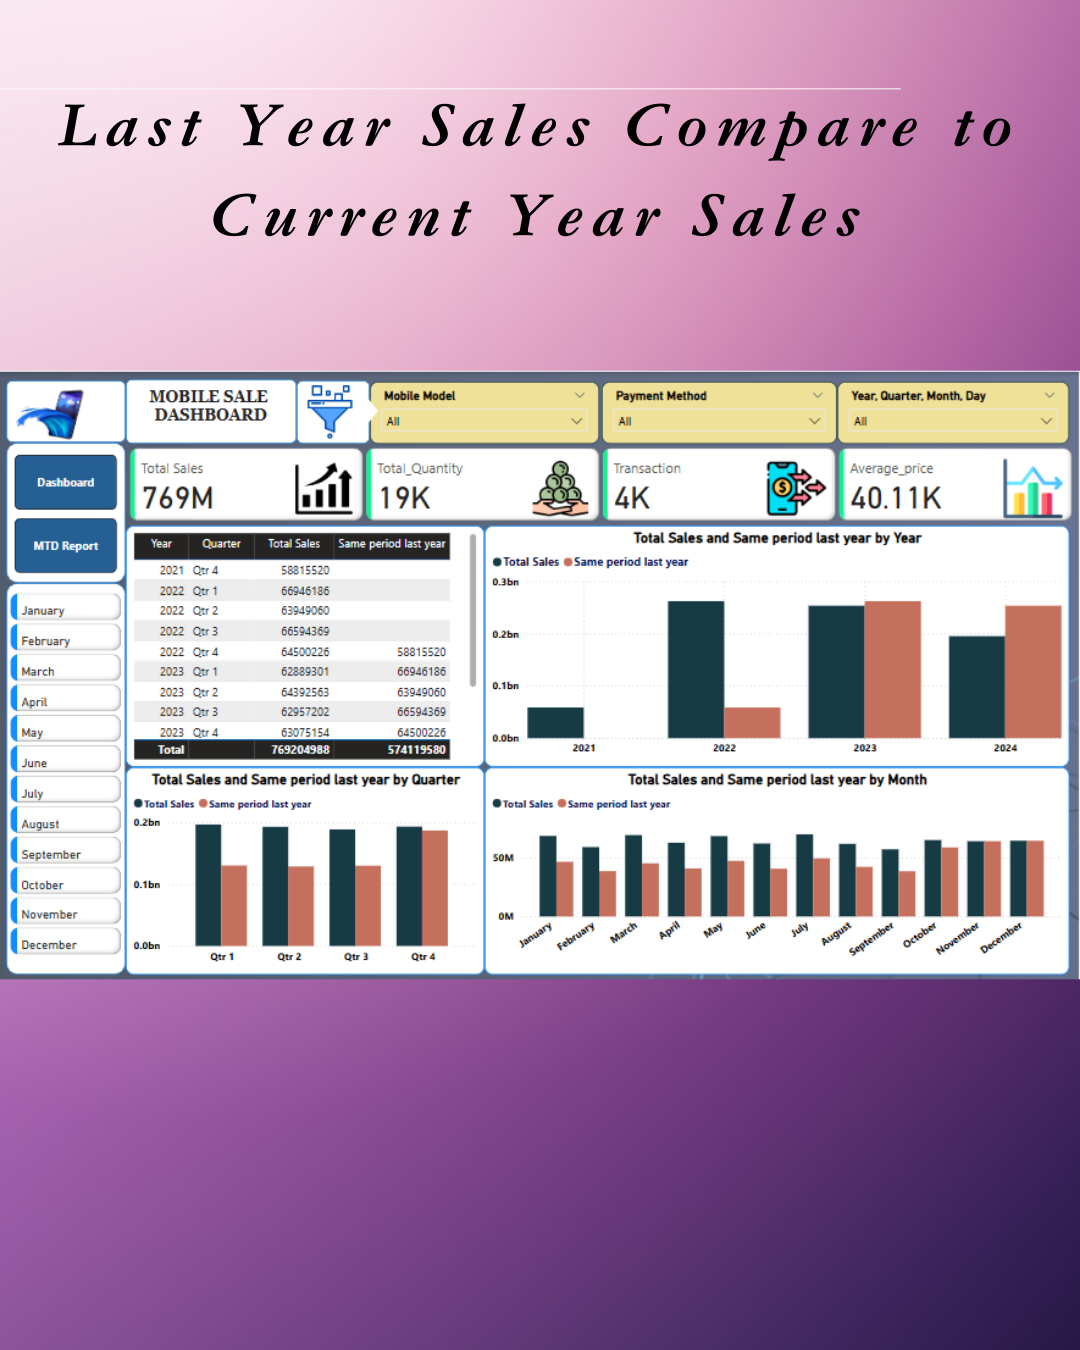

Layout of this report page (visuals, bound fields, positions):
{"tool":"powerbi","page":{"name":"Same Period Last Year","canvas":[1280,720],"ordinal":2},"visuals":[{"type":"shape","box":[10.1,10.1,141.7,73.7],"z":0},{"type":"image","box":[10.1,0,111.3,98.3],"z":1000},{"type":"shape","box":[10.1,83.9,141.7,166.3],"z":2000},{"type":"cardVisual","fields":{"Data":["Sales_Data.Total Sales","Sales_Data.Total_Quantity","Sales_Data.Transaction","Sales_Data.Average_price"]},"box":[151.8,85.3,1127.7,96.9],"z":3000},{"type":"slicer","fields":{"Values":["Sales_Data.Mobile Model"]},"box":[441,11.6,271.8,73.7],"z":4000},{"type":"slicer","fields":{"Values":["Sales_Data.Payment Method"]},"box":[715.7,11.6,279,73.7],"z":5000},{"type":"slicer","fields":{"Values":["Custom_Calender.Date.Variation.Date Hierarchy.Year","Custom_Calender.Date.Variation.Date Hierarchy.Quarter","Custom_Calender.Date.Variation.Date Hierarchy.Month","Custom_Calender.Date.Variation.Date Hierarchy.Day"]},"box":[994.7,11.6,274.7,73.7],"z":6000},{"type":"shape","box":[354.2,10.1,86.7,75.2],"z":7000},{"type":"image","box":[354.2,10.1,79.5,75.2],"z":8000},{"type":"shape","box":[151.8,8.7,202.4,76.6],"z":9000},{"type":"textbox","box":[166.3,14.5,172,65.1],"z":10000},{"type":"shape","box":[420.7,27.5,30.4,37.6],"z":11000},{"type":"shape","box":[10.1,250.1,141.7,464.1],"z":12000},{"type":"advancedSlicerVisual","fields":{"Values":["Custom_Calender.Date.Variation.Date Hierarchy.Month"]},"box":[10.1,257.3,141.7,449.6],"z":13000},{"type":"tableEx","fields":{"Values":["Custom_Calender.Date.Variation.Date Hierarchy.Year","Custom_Calender.Date.Variation.Date Hierarchy.Quarter","Sales_Data.Total Sales","Sales_Data.Same period last year"]},"box":[151.8,182.2,425.1,286.3],"z":14000},{"type":"clusteredColumnChart","fields":{"Category":["Custom_Calender.Date.Variation.Date Hierarchy.Year","Custom_Calender.Date.Variation.Date Hierarchy.Quarter"],"Y":["Sales_Data.Total Sales","Sales_Data.Same period last year"]},"box":[576.9,182.2,692.5,286.3],"z":15000},{"type":"clusteredColumnChart","fields":{"Category":["Custom_Calender.Date.Variation.Date Hierarchy.Year","Custom_Calender.Date.Variation.Date Hierarchy.Quarter"],"Y":["Sales_Data.Total Sales","Sales_Data.Same period last year"]},"box":[151.8,468.4,425.1,245.8],"z":16000},{"type":"clusteredColumnChart","fields":{"Y":["Sales_Data.Total Sales","Sales_Data.Same period last year"],"Category":["Custom_Calender.Date.Variation.Date Hierarchy.Year","Custom_Calender.Date.Variation.Date Hierarchy.Quarter","Custom_Calender.Date.Variation.Date Hierarchy.Month","Custom_Calender.Date.Variation.Date Hierarchy.Day"]},"box":[576.9,468.4,692.5,245.8],"z":17000},{"type":"pageNavigator","box":[20.2,98.3,121.4,140.2],"z":18000}]}

Visuals, with their boxes on the page's 1280x720 design canvas (x1, y1, x2, y2). These are canvas units, not pixel positions in the 1080x1350 screenshot, which may show the page scaled, cropped or inside an application window:
shape: 10,10,152,84
image: 10,0,121,98
shape: 10,84,152,250
cardVisual - Sales_Data.Total Sales x Sales_Data.Total_Quantity: 152,85,1280,182
slicer - Sales_Data.Mobile Model: 441,12,713,85
slicer - Sales_Data.Payment Method: 716,12,995,85
slicer - Custom_Calender.Date.Variation.Date Hierarchy.Year x Custom_Calender.Date.Variation.Date Hierarchy.Quarter: 995,12,1269,85
shape: 354,10,441,85
image: 354,10,434,85
shape: 152,9,354,85
textbox: 166,14,338,80
shape: 421,28,451,65
shape: 10,250,152,714
advancedSlicerVisual - Custom_Calender.Date.Variation.Date Hierarchy.Month: 10,257,152,707
tableEx - Custom_Calender.Date.Variation.Date Hierarchy.Year x Custom_Calender.Date.Variation.Date Hierarchy.Quarter: 152,182,577,468
clusteredColumnChart - Custom_Calender.Date.Variation.Date Hierarchy.Year x Custom_Calender.Date.Variation.Date Hierarchy.Quarter: 577,182,1269,468
clusteredColumnChart - Custom_Calender.Date.Variation.Date Hierarchy.Year x Custom_Calender.Date.Variation.Date Hierarchy.Quarter: 152,468,577,714
clusteredColumnChart - Sales_Data.Total Sales x Sales_Data.Same period last year: 577,468,1269,714
pageNavigator: 20,98,142,238
